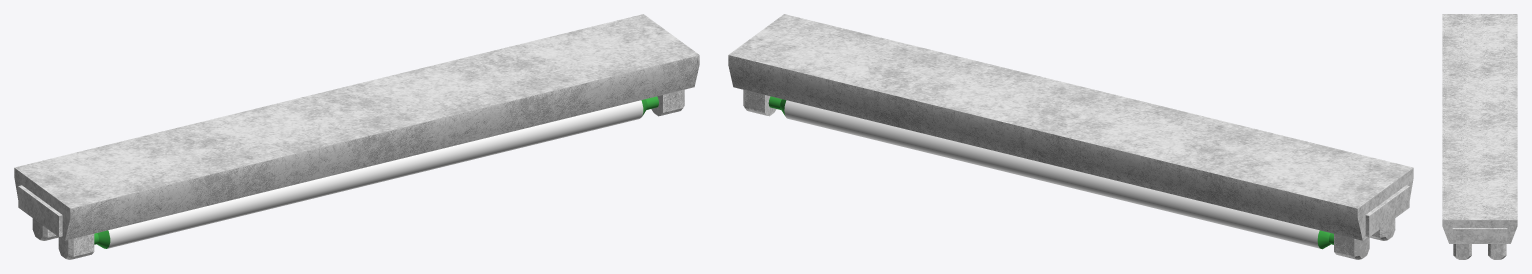
The model's file is tube light.fbx.
3 renders of one model, left to right at view 1: azimuth 30°, elevation 25°; view 2: azimuth 150°, elevation 25°; view 3: azimuth 270°, elevation 25°, orthographic. The views are drawn at different scales.
Parts seen in each view (by area): view 1: Cylinder.001; view 2: Cylinder.001; view 3: Cylinder.001.
Part boxes in pixels (left/top/right/bottom): Cylinder.001: left=14, top=14, right=699, bottom=259; Cylinder.001: left=728, top=14, right=1413, bottom=259; Cylinder.001: left=1442, top=14, right=1517, bottom=259.
Size of the model in its own units: 1603 by 153 by 244.
2 materials, 1 textured.
